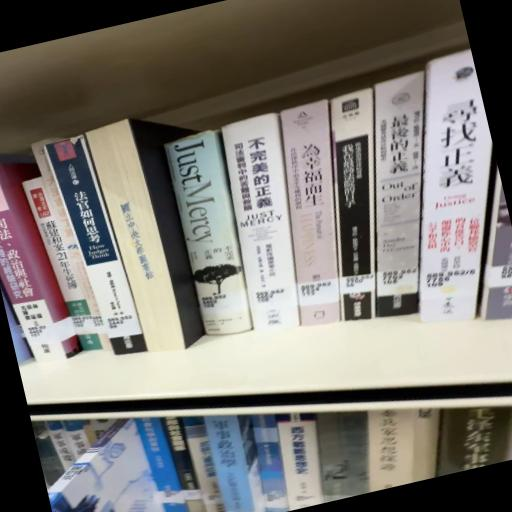backward: (85, 122, 187, 364)
book: (262, 101, 383, 335), (39, 132, 152, 371), (211, 116, 327, 342), (165, 131, 268, 347)
